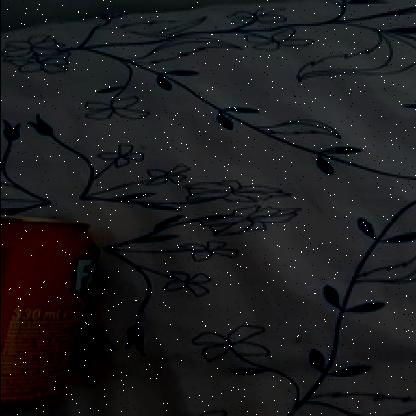Can: (0, 218, 88, 410)
